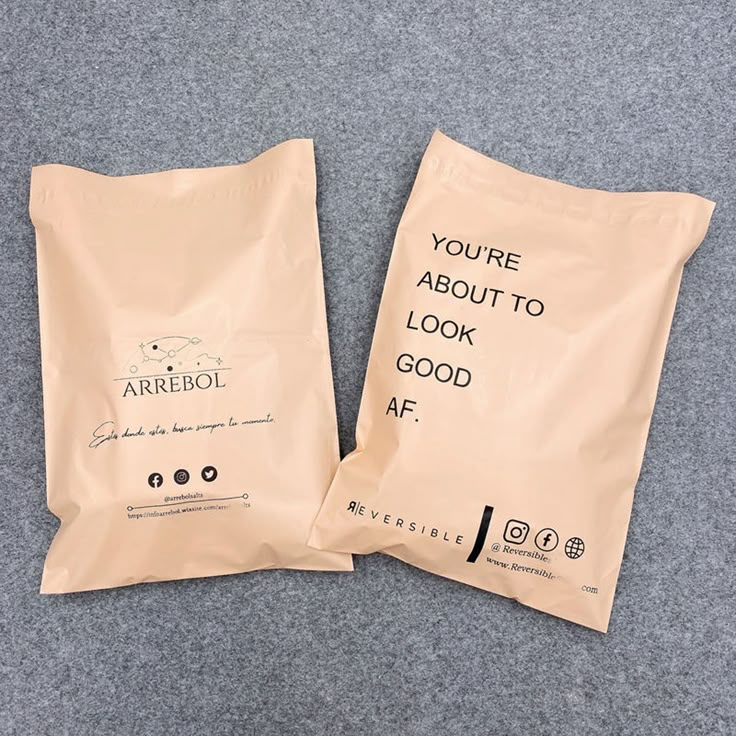Parcel: (313, 128, 713, 631), (7, 138, 353, 594)
